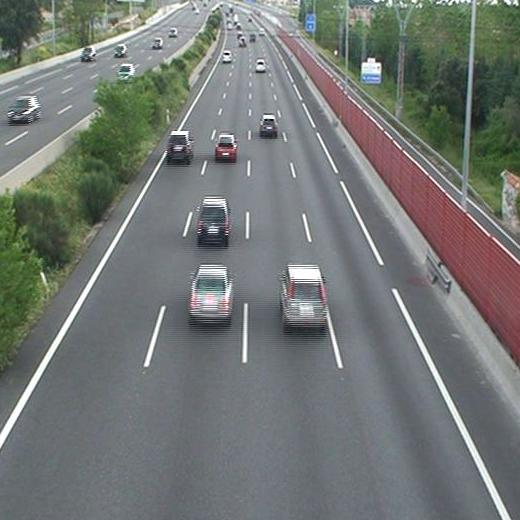car: (280, 266, 327, 325), (190, 264, 231, 319), (198, 198, 230, 239), (168, 132, 192, 158), (215, 134, 237, 159), (260, 116, 278, 134), (255, 59, 266, 72), (221, 51, 233, 62)
